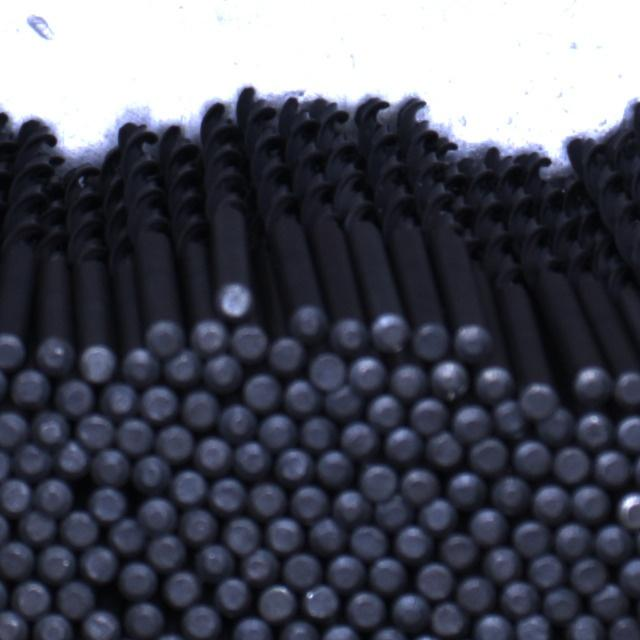tool: (455, 323, 498, 363), (370, 312, 411, 353), (11, 369, 53, 409), (182, 389, 222, 430), (490, 474, 531, 514), (430, 358, 470, 399), (393, 593, 433, 633), (242, 371, 282, 411), (122, 346, 162, 386), (38, 334, 78, 374), (163, 347, 204, 386), (194, 543, 236, 581), (474, 364, 516, 402), (56, 377, 96, 416), (80, 341, 119, 381), (34, 476, 74, 515), (204, 354, 244, 393), (447, 470, 487, 509), (290, 483, 330, 522), (596, 450, 636, 489), (195, 436, 234, 476), (190, 319, 230, 358), (341, 421, 381, 460), (123, 602, 164, 640), (139, 385, 180, 423), (451, 404, 492, 442), (375, 493, 416, 531), (146, 318, 187, 356), (14, 580, 53, 619), (284, 377, 323, 416), (346, 591, 386, 629), (13, 442, 53, 480), (156, 425, 196, 463), (39, 545, 79, 583), (458, 574, 498, 612), (348, 355, 388, 393), (275, 446, 315, 484), (575, 366, 613, 406), (334, 489, 375, 526), (144, 534, 186, 570), (360, 462, 399, 500), (259, 583, 298, 621), (57, 580, 96, 618), (554, 520, 593, 558), (513, 438, 552, 476), (410, 395, 449, 433), (470, 508, 509, 546), (427, 430, 466, 468), (120, 562, 159, 600), (531, 483, 570, 521), (260, 412, 299, 450), (570, 484, 609, 522), (316, 448, 355, 486), (313, 519, 352, 557), (231, 324, 270, 362), (59, 509, 99, 546), (282, 551, 322, 588), (402, 467, 442, 504), (137, 497, 177, 534), (310, 352, 348, 390), (594, 524, 632, 562), (554, 445, 592, 483), (219, 403, 257, 441), (225, 516, 263, 554), (389, 362, 428, 399), (329, 553, 368, 590), (470, 437, 509, 474), (327, 386, 366, 423), (411, 322, 450, 359), (235, 439, 272, 478), (396, 524, 435, 561), (133, 456, 172, 493), (108, 516, 147, 553), (91, 448, 131, 484), (17, 510, 57, 546), (484, 545, 524, 581), (178, 509, 218, 545), (502, 579, 542, 615), (416, 561, 454, 598), (118, 417, 156, 454), (513, 518, 551, 555), (170, 467, 208, 504), (520, 380, 558, 417), (241, 548, 280, 584), (81, 546, 120, 582), (77, 412, 116, 448), (163, 569, 202, 605), (101, 381, 140, 417), (418, 498, 458, 533), (270, 335, 307, 372), (371, 556, 408, 593), (593, 584, 631, 620), (267, 517, 305, 553), (302, 582, 340, 618), (351, 522, 389, 558), (441, 531, 479, 567), (385, 425, 423, 461), (217, 578, 253, 616), (209, 478, 247, 514), (54, 439, 90, 477), (0, 539, 35, 578), (181, 603, 220, 638), (31, 409, 70, 444), (572, 557, 609, 593), (433, 602, 470, 638), (90, 485, 128, 520), (251, 481, 289, 516), (576, 411, 612, 447), (544, 588, 582, 622), (301, 417, 339, 451), (331, 317, 369, 351), (368, 392, 404, 427), (292, 309, 329, 343), (80, 609, 120, 640), (0, 478, 32, 516), (529, 553, 565, 586), (0, 408, 29, 446), (475, 612, 514, 640), (34, 613, 74, 640), (497, 401, 527, 435), (516, 613, 553, 640), (543, 409, 574, 441), (233, 616, 274, 640), (0, 330, 25, 369), (614, 367, 640, 404), (570, 615, 606, 640), (618, 490, 640, 530), (221, 289, 250, 319), (617, 413, 640, 450), (0, 610, 28, 640), (278, 620, 318, 640), (620, 556, 640, 595), (610, 617, 640, 640), (321, 624, 362, 640), (368, 626, 408, 640), (0, 445, 11, 484), (0, 511, 11, 549)
